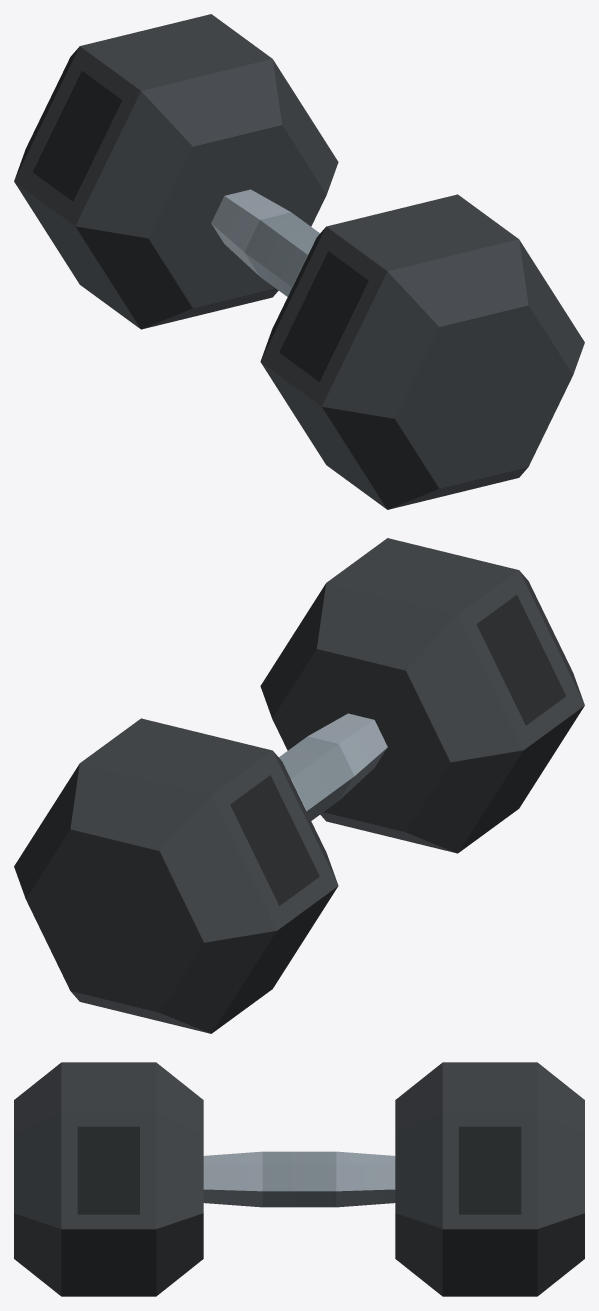
Rendered from SM_Prop_Gym_Dumbbell_03.obj.
3 views of the same model, one above another, from view 1: azimuth 30°, elevation 25°; view 2: azimuth 150°, elevation 25°; view 3: azimuth 270°, elevation 25° (orthographic). The views are drawn at different scales.
Parts seen in each view (by area): view 1: SM_Prop_Gym_Dumbbell_03_0; view 2: SM_Prop_Gym_Dumbbell_03_0; view 3: SM_Prop_Gym_Dumbbell_03_0.
Boxes of the visible parts, left/top/right/bottom form: SM_Prop_Gym_Dumbbell_03_0: left=14, top=14, right=584, bottom=509; SM_Prop_Gym_Dumbbell_03_0: left=14, top=538, right=584, bottom=1033; SM_Prop_Gym_Dumbbell_03_0: left=14, top=1062, right=584, bottom=1296.
Bounding box in the file's own units: 0.2124 × 0.1839 × 0.5156.
Materials: 1 (1 with a texture image).
